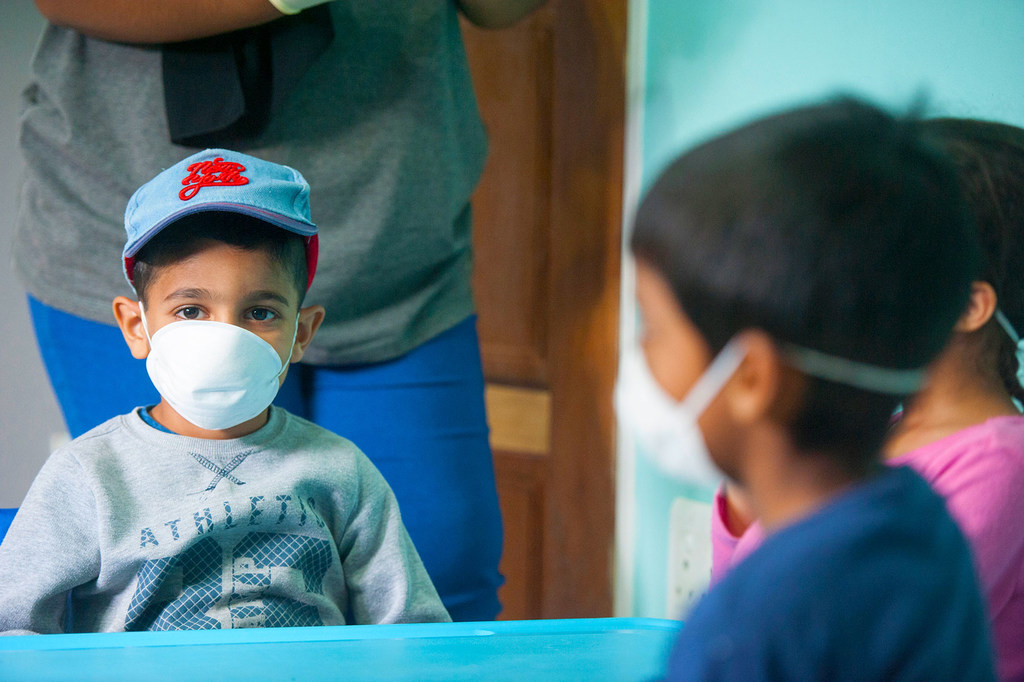with_mask: (638, 273, 737, 471), (158, 258, 285, 405)
